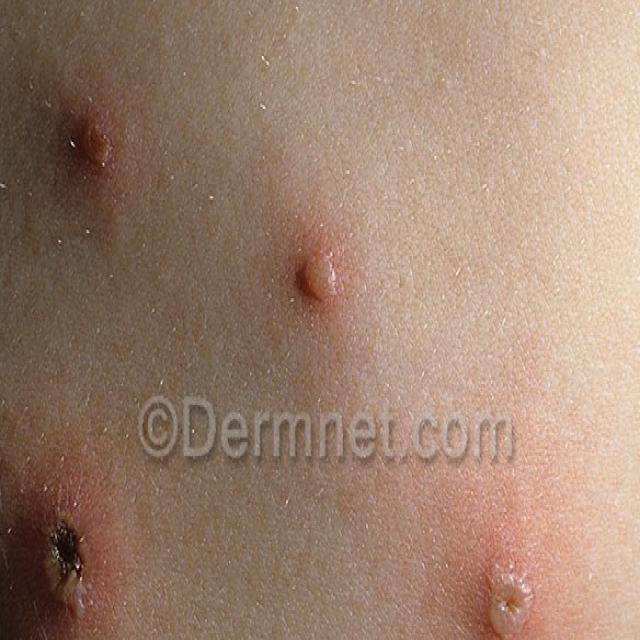Viral Infections: (282, 201, 345, 331), (31, 495, 92, 613), (476, 549, 539, 640), (65, 106, 114, 183)
